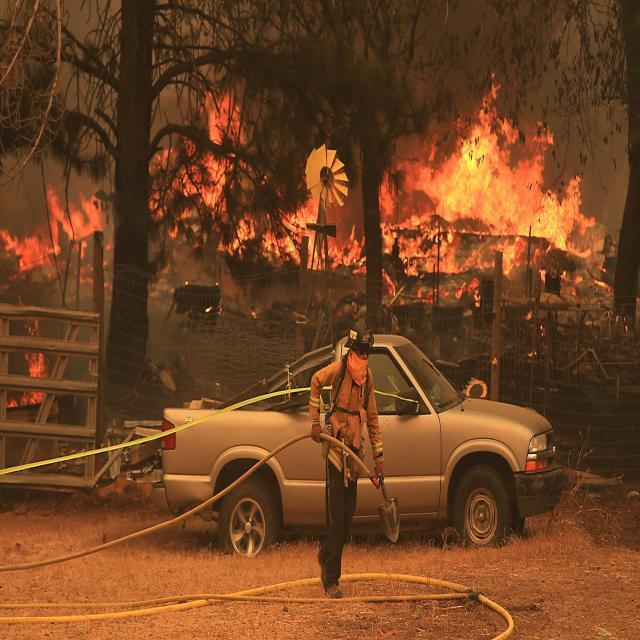Fire: (373, 57, 621, 312), (143, 76, 374, 282), (0, 175, 119, 282), (0, 293, 58, 404)
